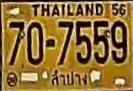0: (27, 21, 42, 64)
5: (75, 20, 91, 63), (93, 20, 108, 63)
7: (8, 21, 24, 64), (58, 21, 73, 64)
9: (110, 20, 126, 62)
LPG: (49, 68, 89, 87)
